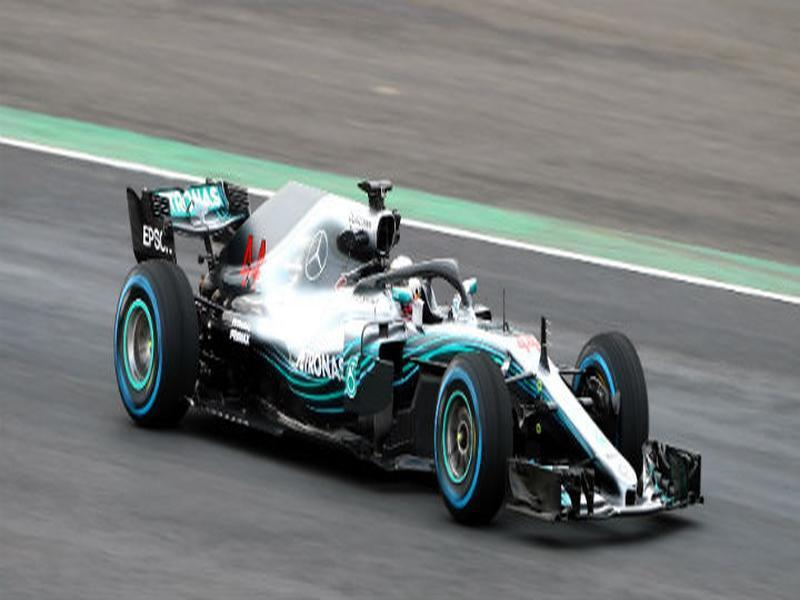f1: (44, 129, 700, 600)
